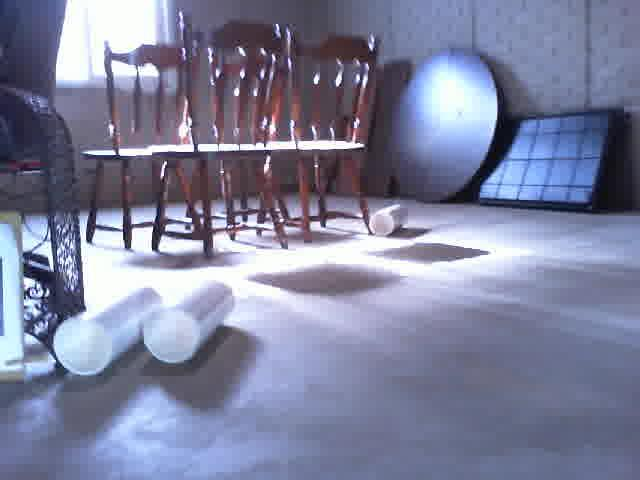coral: (56, 287, 163, 373), (144, 279, 239, 364), (370, 204, 411, 235)
